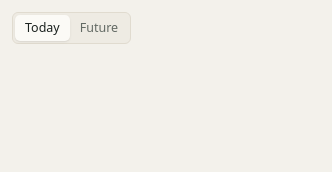
Test case: components › segmented control is an accessible radio group
Click the radio button labelled "Future": (99, 28) x1=70 y1=15 x2=128 y2=41
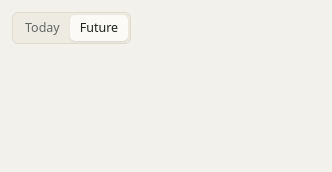
Now the radio button labelled "Future" is checked, box x1=70 y1=15 x2=128 y2=41
